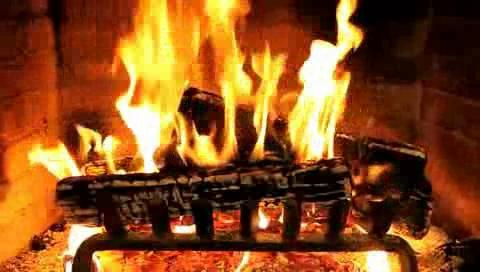fire: (119, 6, 356, 161)
